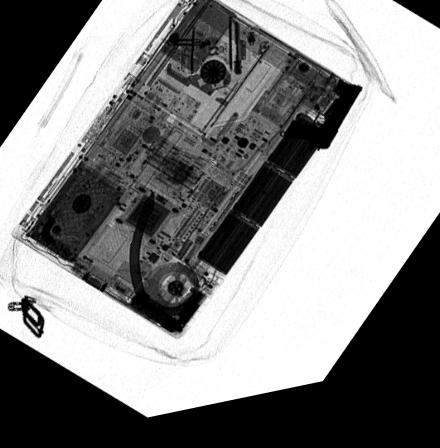Gun: (283, 96, 364, 161)
